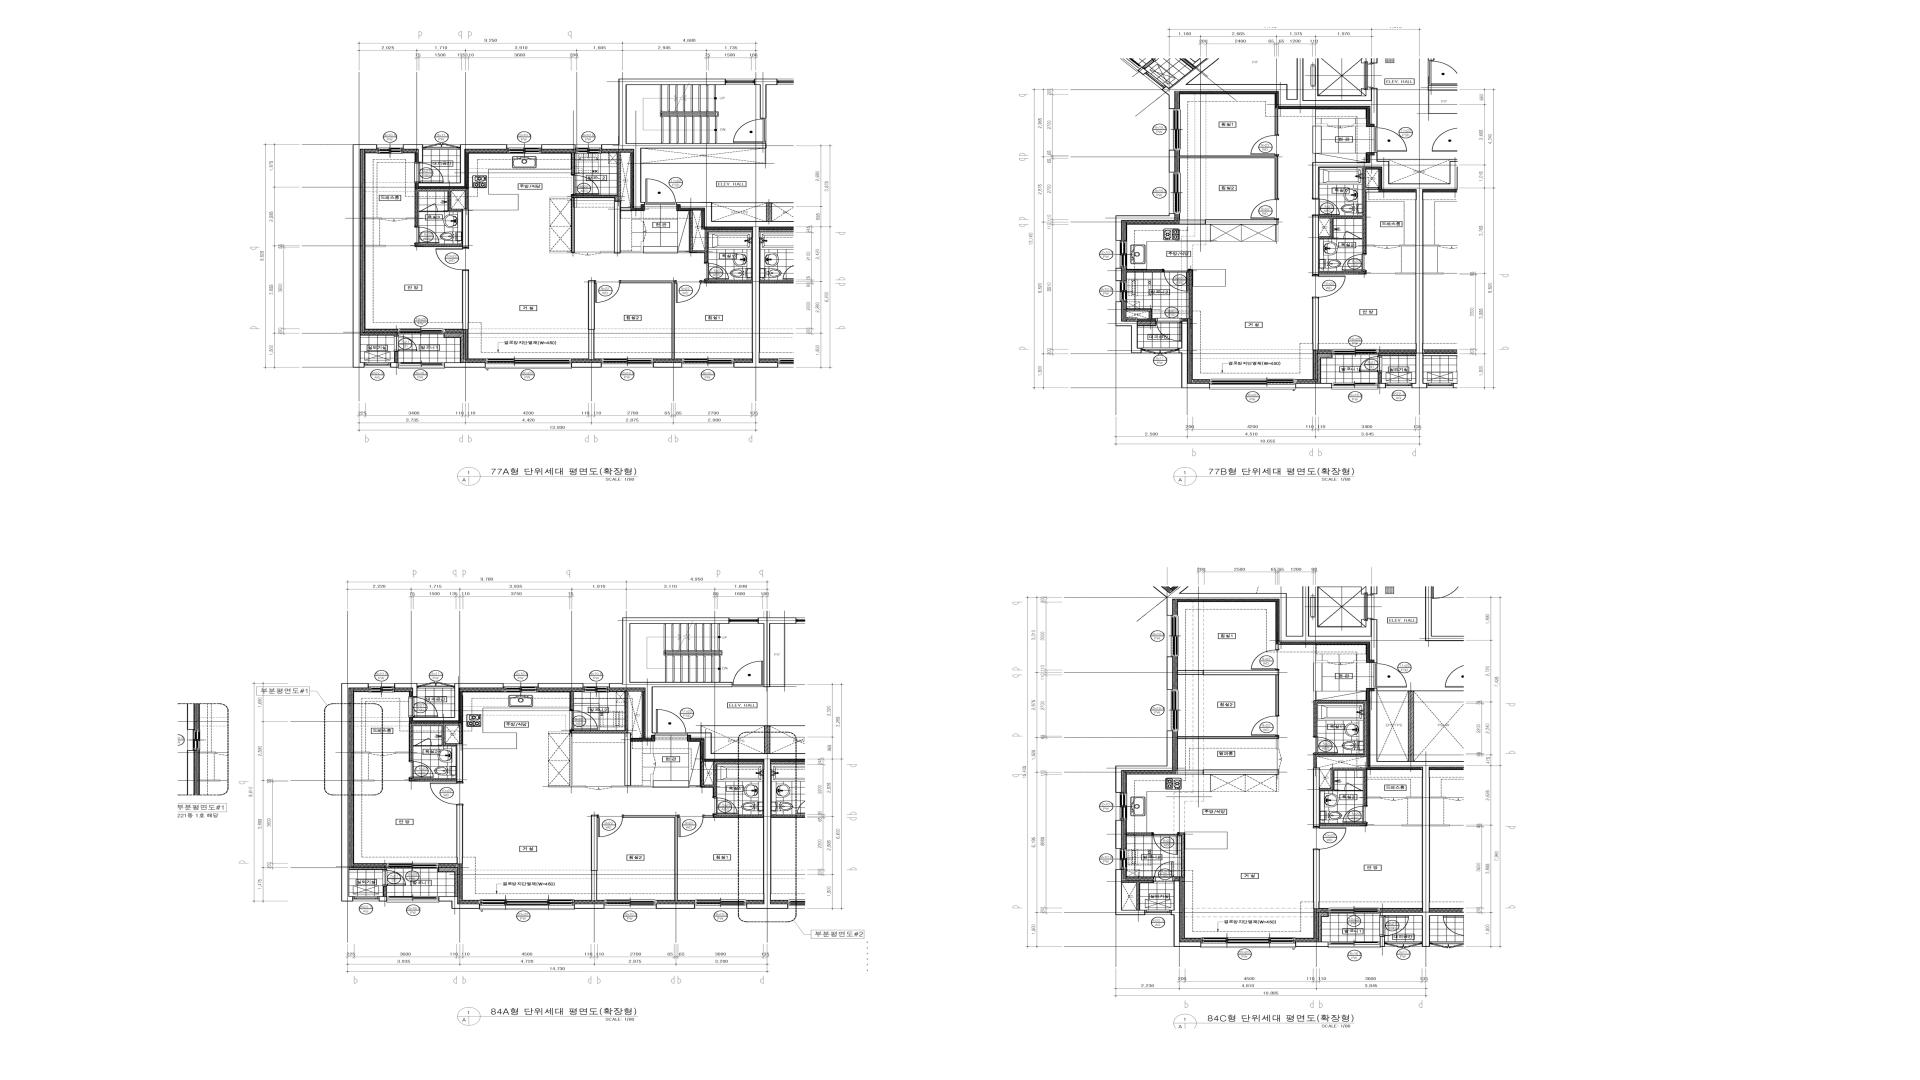door: (645, 178, 676, 204), (1374, 127, 1407, 152), (733, 119, 766, 144), (435, 247, 469, 270), (1312, 274, 1346, 298), (733, 661, 764, 687), (655, 709, 687, 735), (430, 781, 463, 804), (1313, 825, 1346, 849), (1374, 663, 1407, 687), (675, 280, 702, 303), (595, 280, 621, 303), (409, 696, 438, 717), (1250, 135, 1279, 156), (571, 174, 600, 195), (1156, 318, 1182, 342), (678, 815, 704, 837), (597, 815, 624, 837), (1153, 832, 1179, 855), (1163, 269, 1189, 291), (1251, 649, 1279, 670), (1379, 916, 1408, 936), (1250, 199, 1279, 219), (414, 162, 443, 182), (570, 711, 597, 731), (1251, 716, 1279, 736), (1312, 198, 1340, 215), (1313, 736, 1338, 754), (414, 225, 439, 244), (712, 796, 737, 814), (409, 761, 434, 778), (1342, 806, 1367, 823), (1342, 253, 1367, 270), (704, 262, 729, 280), (1154, 861, 1174, 882), (382, 870, 406, 886), (1358, 356, 1382, 372), (394, 335, 417, 351), (1385, 942, 1422, 948), (423, 142, 460, 149), (1142, 348, 1179, 355), (415, 737, 433, 746), (1345, 782, 1362, 791), (421, 203, 438, 212), (1344, 231, 1361, 239), (585, 786, 612, 790), (369, 752, 396, 756), (1276, 749, 1282, 769), (1381, 796, 1407, 800), (575, 252, 601, 256), (1374, 245, 1400, 249), (381, 218, 406, 222), (1328, 662, 1353, 665), (1328, 125, 1353, 128), (644, 222, 646, 241)
wall: (1312, 152, 1458, 388), (1370, 687, 1464, 947), (601, 78, 766, 208), (676, 202, 794, 368), (1153, 585, 1378, 663), (609, 617, 733, 738), (1162, 58, 1378, 127), (687, 732, 770, 909), (549, 691, 628, 787), (550, 152, 620, 253), (342, 683, 368, 902), (352, 144, 377, 368), (1319, 167, 1379, 253), (1178, 670, 1279, 716), (624, 815, 678, 901), (1179, 156, 1278, 199), (621, 281, 675, 360), (418, 144, 508, 186), (1313, 700, 1367, 767), (1116, 731, 1174, 793), (413, 683, 504, 721), (690, 210, 752, 262), (704, 765, 764, 818), (1320, 767, 1367, 827), (758, 617, 796, 687), (396, 723, 463, 761), (406, 189, 469, 227), (1178, 769, 1279, 791), (612, 732, 653, 787), (700, 761, 764, 796), (1179, 320, 1211, 388), (1425, 585, 1464, 641), (1171, 881, 1201, 947), (641, 148, 766, 164), (409, 746, 456, 781), (601, 200, 632, 253), (1116, 214, 1175, 240), (1116, 302, 1142, 353), (1116, 869, 1145, 915), (1178, 736, 1279, 749), (770, 624, 786, 687), (1122, 880, 1154, 910), (754, 79, 778, 119), (700, 725, 806, 732), (443, 332, 464, 363), (438, 868, 458, 897), (591, 815, 597, 901), (588, 280, 595, 360), (1179, 219, 1279, 224), (438, 897, 480, 909), (462, 270, 469, 330), (1317, 353, 1333, 382), (1313, 849, 1320, 909), (1313, 767, 1320, 827), (456, 804, 463, 864), (1312, 215, 1319, 274), (1408, 691, 1414, 761), (404, 144, 423, 162), (1312, 298, 1319, 351), (1319, 913, 1329, 942), (462, 208, 469, 247), (1179, 832, 1185, 877), (394, 683, 417, 696), (1126, 309, 1153, 319), (1313, 645, 1328, 663), (621, 241, 644, 253), (456, 744, 463, 782), (1313, 108, 1328, 125), (538, 683, 583, 688), (1167, 657, 1174, 690), (444, 363, 485, 368), (655, 903, 695, 909), (1189, 269, 1193, 319), (702, 280, 752, 284), (414, 243, 463, 247), (1116, 820, 1122, 849), (1319, 270, 1366, 274), (1296, 382, 1332, 388), (542, 144, 575, 149), (1296, 942, 1328, 947), (571, 363, 601, 368), (1168, 149, 1175, 173), (575, 903, 604, 909), (653, 363, 682, 368), (765, 725, 770, 753), (1126, 269, 1163, 273), (766, 203, 773, 222), (1378, 690, 1464, 691), (712, 202, 794, 203), (1126, 832, 1153, 836), (1378, 158, 1457, 160), (1378, 353, 1416, 356), (360, 332, 398, 335), (349, 868, 386, 870), (1138, 320, 1156, 326), (571, 152, 575, 174), (1116, 268, 1122, 281), (570, 691, 574, 711), (1275, 108, 1278, 135), (1402, 824, 1423, 827), (378, 897, 388, 902), (394, 351, 398, 363), (382, 886, 386, 897), (1381, 936, 1385, 947), (390, 363, 398, 368), (1378, 382, 1386, 388), (1378, 372, 1382, 382), (1400, 244, 1416, 247), (1353, 661, 1366, 663), (650, 741, 653, 753), (353, 779, 375, 781), (641, 211, 644, 222), (1395, 273, 1416, 274), (365, 245, 385, 247), (1407, 796, 1423, 798), (1275, 644, 1279, 649), (353, 752, 369, 753), (365, 218, 381, 219), (1367, 796, 1381, 798), (1353, 124, 1366, 125)
window: (480, 899, 575, 910), (1201, 938, 1296, 948), (1211, 378, 1296, 385), (1167, 690, 1179, 731), (1167, 616, 1179, 657), (695, 899, 746, 909), (604, 899, 655, 909), (485, 364, 572, 369), (485, 359, 571, 364), (601, 359, 653, 367), (682, 359, 733, 367), (386, 895, 439, 902), (1328, 907, 1381, 914), (1328, 942, 1381, 948), (1209, 385, 1296, 389), (386, 862, 438, 869), (1116, 793, 1127, 820), (504, 683, 538, 692), (508, 144, 542, 153), (1174, 108, 1180, 150), (1174, 173, 1180, 214), (417, 682, 455, 688), (583, 683, 609, 692), (368, 683, 394, 692), (377, 144, 404, 153), (575, 144, 601, 153), (398, 328, 443, 334), (1333, 349, 1378, 355), (1116, 849, 1127, 869), (1120, 240, 1127, 268), (729, 617, 758, 624), (398, 365, 444, 369), (1332, 382, 1378, 386), (1120, 281, 1127, 302), (1170, 173, 1174, 214), (1170, 109, 1174, 150), (725, 79, 754, 84), (352, 895, 378, 901), (1145, 910, 1171, 915), (364, 363, 390, 368), (1386, 382, 1412, 388), (398, 363, 444, 365), (1332, 386, 1378, 389), (1116, 240, 1120, 268), (1116, 281, 1120, 302)
